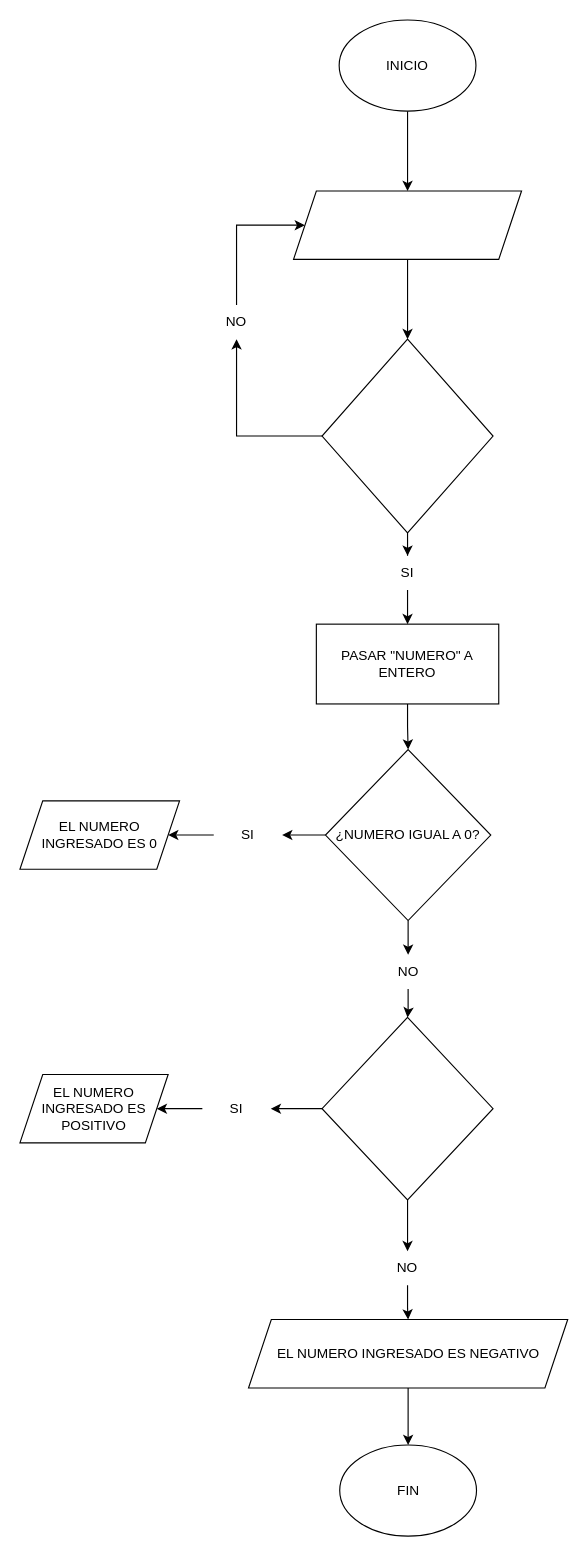
Image size: 588x1556. Some labels were removed from this diagram. Each missing label, with the centre of its shape:
"INGRESE UN NUMERO" belongs at pixel 407 224.
"¿ES UN NUMERO? Y ¿NO ESTA VACIO?" belongs at pixel 407 435.
"¿NUMERO MAYOR A 0?" belongs at pixel 407 1108.
